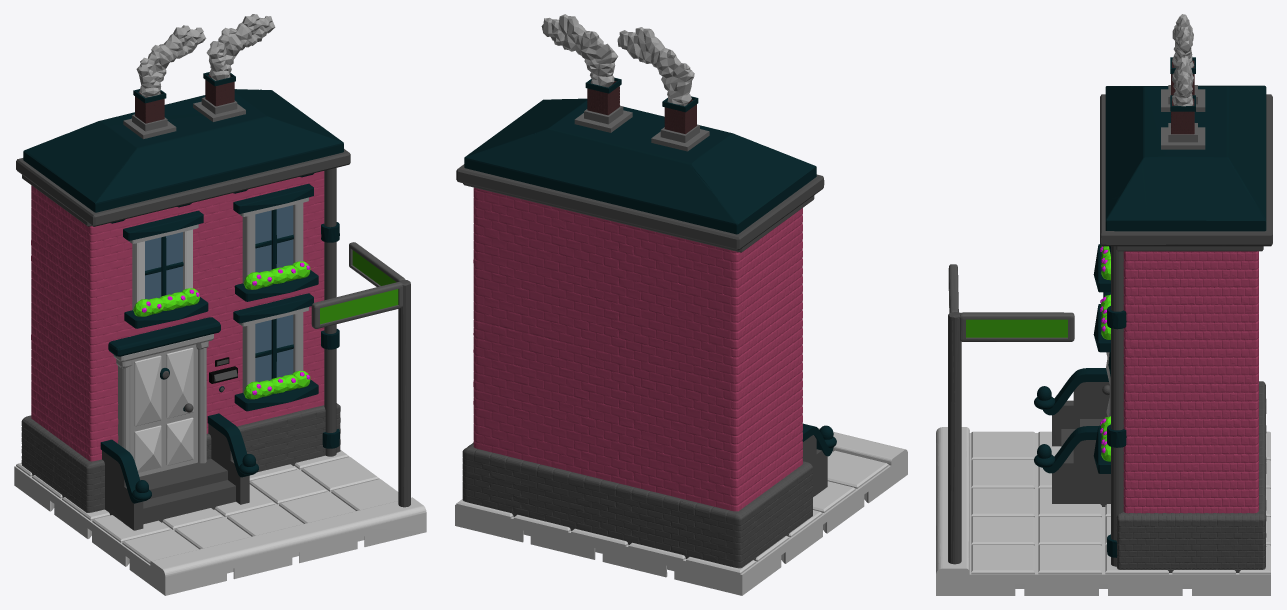
Rendered from 10x10 house 1.glb.
3 renders of one model, left to right at view 1: azimuth 30°, elevation 25°; view 2: azimuth 150°, elevation 25°; view 3: azimuth 270°, elevation 25°, orthographic. The views are drawn at different scales.
Parts seen in each view (by area): view 1: Box 8, Körper 46, Box 21, Box 6, Box 50, fenster light (×3), Box 19, Quad Sphere 18, Cylinder, Cylinder 9, Box 41, Box 34 (+32 smaller); view 2: Box 8, Box 21, Box 6, Körper 46, Box 19, Quad Sphere 18, Box 20, Box 50, Quad Sphere 20, Quad Sphere 16, Quad Sphere 7, Quad Sphere 19 (+1 smaller); view 3: Box 8, Körper 46, Box 21, Box 6, Box 50, Box 19, Cylinder, Cylinder 9, Box 56, Quad Sphere 18, Box 57, Box 48 (+6 smaller).
Boxes of the visible parts, x1,y1,x2,y2 form: Box 8: (31,171,324,461); Körper 46: (14,450,426,595); Box 21: (23,89,343,212); Box 6: (21,403,340,512); Box 50: (102,424,249,530); fenster light (×3): (145,205,293,381); Box 19: (16,149,350,226); Quad Sphere 18: (136,14,275,97); Cylinder: (398,280,410,507); Cylinder 9: (324,168,336,456); Box 41: (130,344,197,476); Box 34: (108,317,220,356); Box 8: (473,187,802,511); Box 21: (464,98,816,234); Box 6: (462,442,812,568); Körper 46: (455,428,907,595); Box 19: (456,164,824,250); Quad Sphere 18: (541,14,694,106); Box 20: (463,183,814,252); Box 50: (802,435,827,496); Quad Sphere 20: (574,105,632,132); Quad Sphere 16: (651,124,709,151); Quad Sphere 7: (664,99,696,133); Quad Sphere 19: (587,81,619,115); Box 8: (1123,251,1258,513); Körper 46: (936,427,1270,595); Box 21: (1105,85,1266,231); Box 6: (1116,381,1266,572); Box 50: (1052,382,1110,506); Box 19: (1100,94,1272,246); Cylinder: (948,312,961,564); Cylinder 9: (1111,246,1123,566); Box 56: (966,319,1067,337); Quad Sphere 18: (1172,14,1194,106); Box 57: (960,312,1074,341); Box 48: (1034,368,1108,415).
Bounding box in the file's own units: 100 × 167 × 101.
